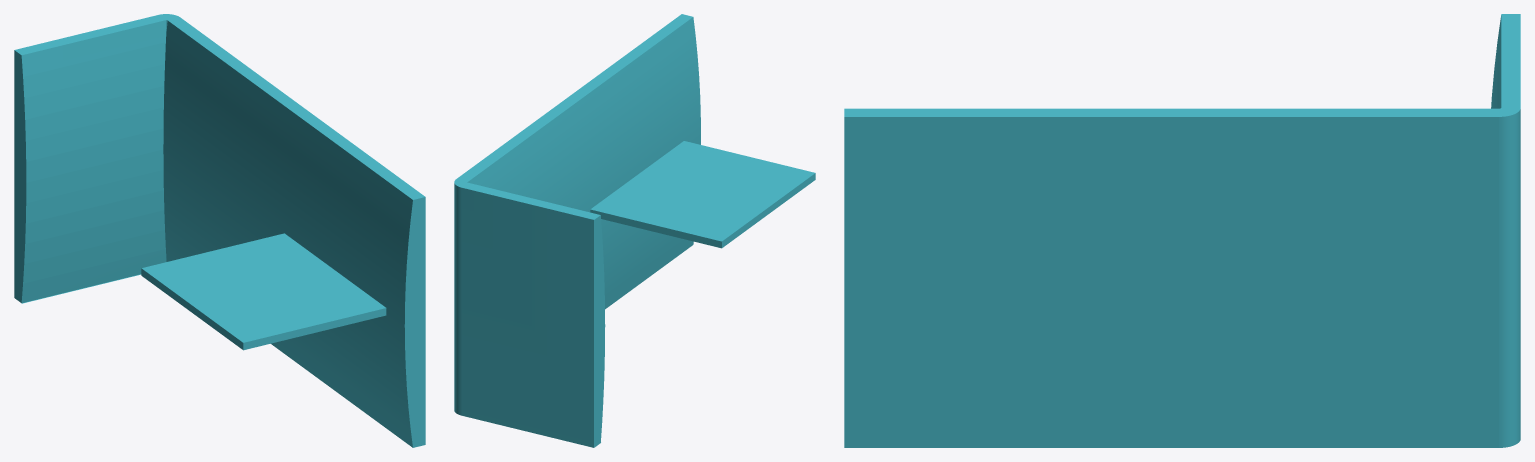
3 views of the same model, side by side, from view 1: azimuth 30°, elevation 25°; view 2: azimuth 150°, elevation 25°; view 3: azimuth 270°, elevation 25° (orthographic). The views are drawn at different scales.
Parts seen in each view (by area): view 1: Renderer Node; view 2: Renderer Node; view 3: Renderer Node.
Boxes of the visible parts, box(x1,y1,x2,y2) form: Renderer Node: box(14, 14, 425, 447); Renderer Node: box(454, 14, 815, 447); Renderer Node: box(844, 14, 1520, 447).
Size of the model in its own units: 0.3123 by 0.4514 by 0.8359.
Materials: 1 (1 with a texture image).
